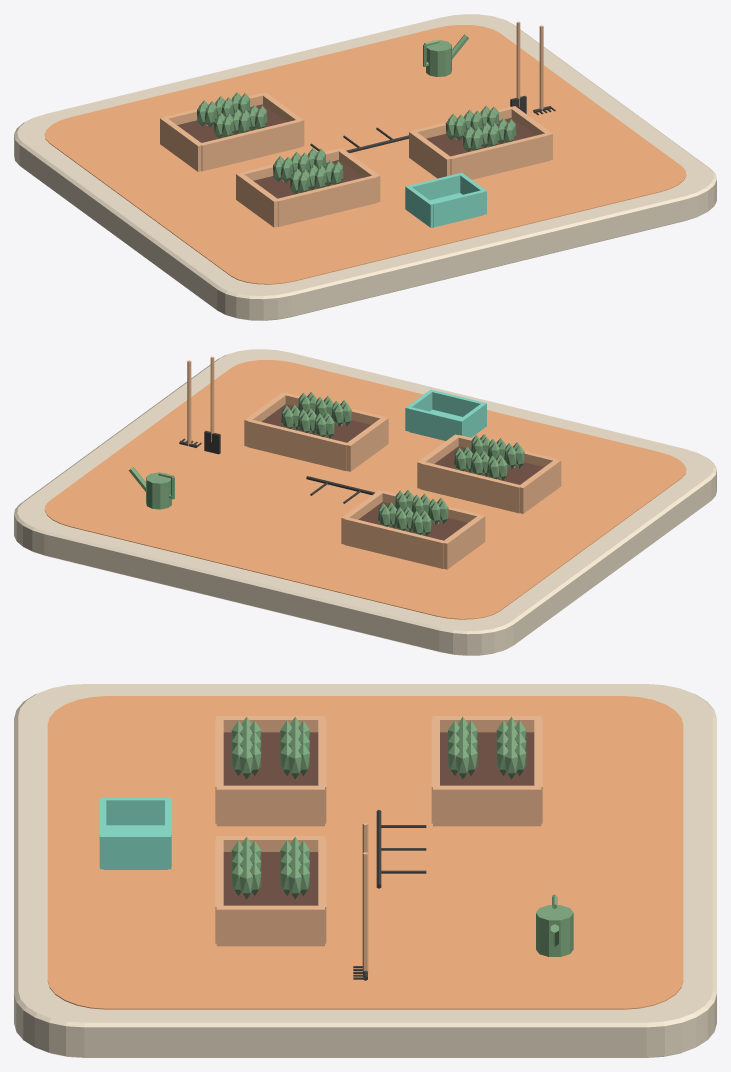
Rendered from room.fbx.
The picture shows the model from 3 angles, top to bottom: view 1: azimuth 30°, elevation 25°; view 2: azimuth 150°, elevation 25°; view 3: azimuth 270°, elevation 25°; orthographic projection. The views are drawn at different scales.
Parts seen in each view (by area): view 1: COM-02 Floor Surface, COM-01 Rounded Base Direct, Border.010, Border.002, Border.006, Bin end, Border, Border.008, Border.004, Can, Bin end.001, Soil (+6 smaller); view 2: COM-02 Floor Surface, COM-01 Rounded Base Direct, Border.007, Border.011, Border.003, Border, Border.008, Border.004, Bin end.001, Bin end, Can, Soil.001 (+7 smaller); view 3: COM-02 Floor Surface, COM-01 Rounded Base Direct, Border.001, Border.009, Border.005, Soil.001, Soil, Soil.002, Bin side.001, Bin side, Can, Border (+10 smaller).
Boxes of the visible parts, x1,y1,x2,y2 form: COM-02 Floor Surface: (44, 25, 686, 284); COM-01 Rounded Base Direct: (14, 14, 716, 320); Border.010: (199, 120, 300, 171); Border.002: (278, 175, 376, 226); Border.006: (448, 133, 549, 179); Bin end: (431, 190, 484, 226); Border: (236, 172, 279, 227); Border.008: (160, 117, 203, 171); Border.004: (409, 131, 450, 178); Can: (426, 40, 451, 76); Bin end.001: (409, 173, 460, 200); Soil: (253, 160, 362, 198); COM-02 Floor Surface: (44, 360, 686, 619); COM-01 Rounded Base Direct: (14, 349, 716, 655); Border.007: (247, 419, 348, 471); Border.011: (344, 517, 445, 568); Border.003: (420, 461, 519, 513); Border: (518, 459, 561, 513); Border.008: (442, 514, 485, 569); Border.004: (346, 417, 388, 471); Bin end.001: (408, 407, 460, 440); Bin end: (431, 390, 483, 416); Can: (146, 472, 171, 509); Soil.001: (261, 404, 370, 442); COM-02 Floor Surface: (47, 696, 683, 1009); COM-01 Rounded Base Direct: (14, 684, 716, 1057); Border.001: (216, 785, 324, 826); Border.009: (433, 785, 541, 826); Border.005: (216, 905, 324, 946); Soil.001: (223, 852, 318, 905); Soil: (223, 732, 318, 785); Soil.002: (440, 732, 534, 785); Bin side.001: (100, 834, 171, 869); Bin side: (100, 797, 171, 825); Can: (536, 905, 573, 956); Border: (216, 716, 324, 732).
Size of the model in its own units: 600 by 140 by 520.
